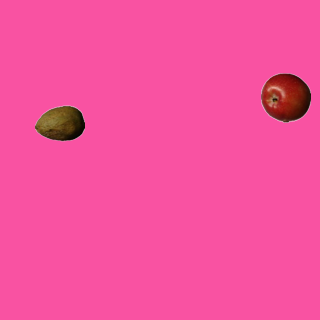Apple Braeburn: (260, 72, 310, 122)
Papaya: (34, 98, 84, 148)
